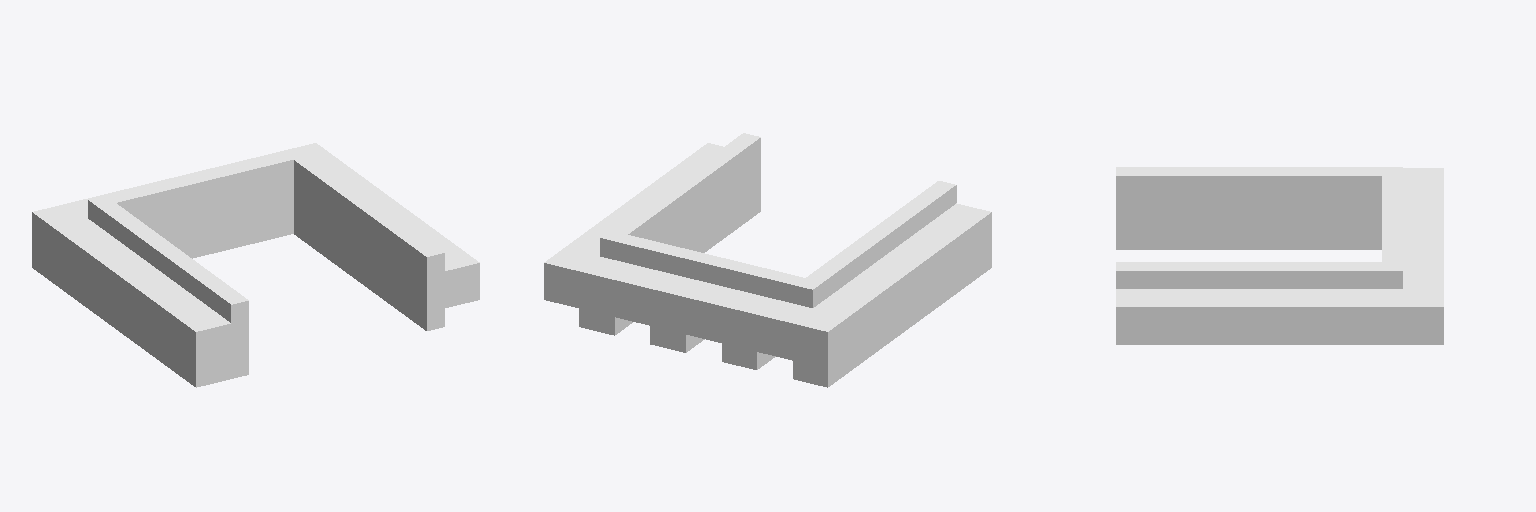
Rendered from CeilingBitsSkylight2.obj.
3 views of the same model, side by side, from view 1: azimuth 30°, elevation 25°; view 2: azimuth 150°, elevation 25°; view 3: azimuth 270°, elevation 25° (orthographic).
Parts seen in each view (by area): view 1: object 1; view 2: object 1; view 3: object 1.
Part boxes in pixels (x1,y1,x2,y2): object 1: (32,143,479,387); object 1: (544,133,991,387); object 1: (1116,167,1443,344).
Size of the model in its own units: 1.6 by 0.4 by 1.6.